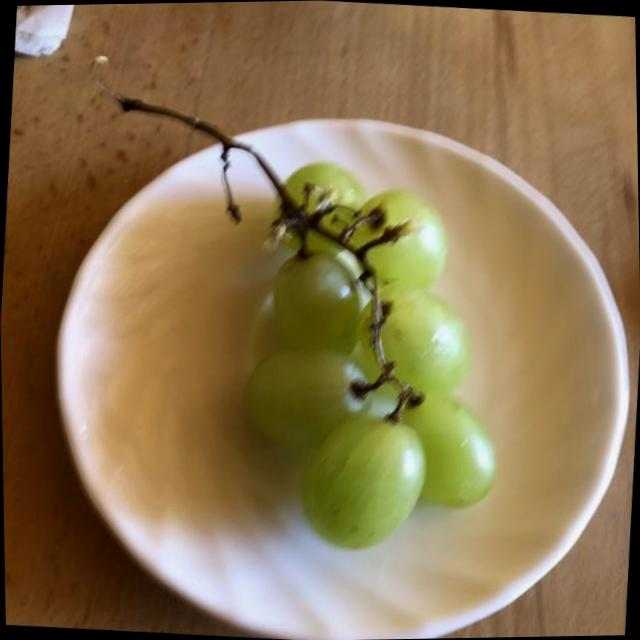Grapes: (215, 136, 524, 564)
